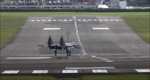maybay_muctieu: (35, 37, 81, 56)
